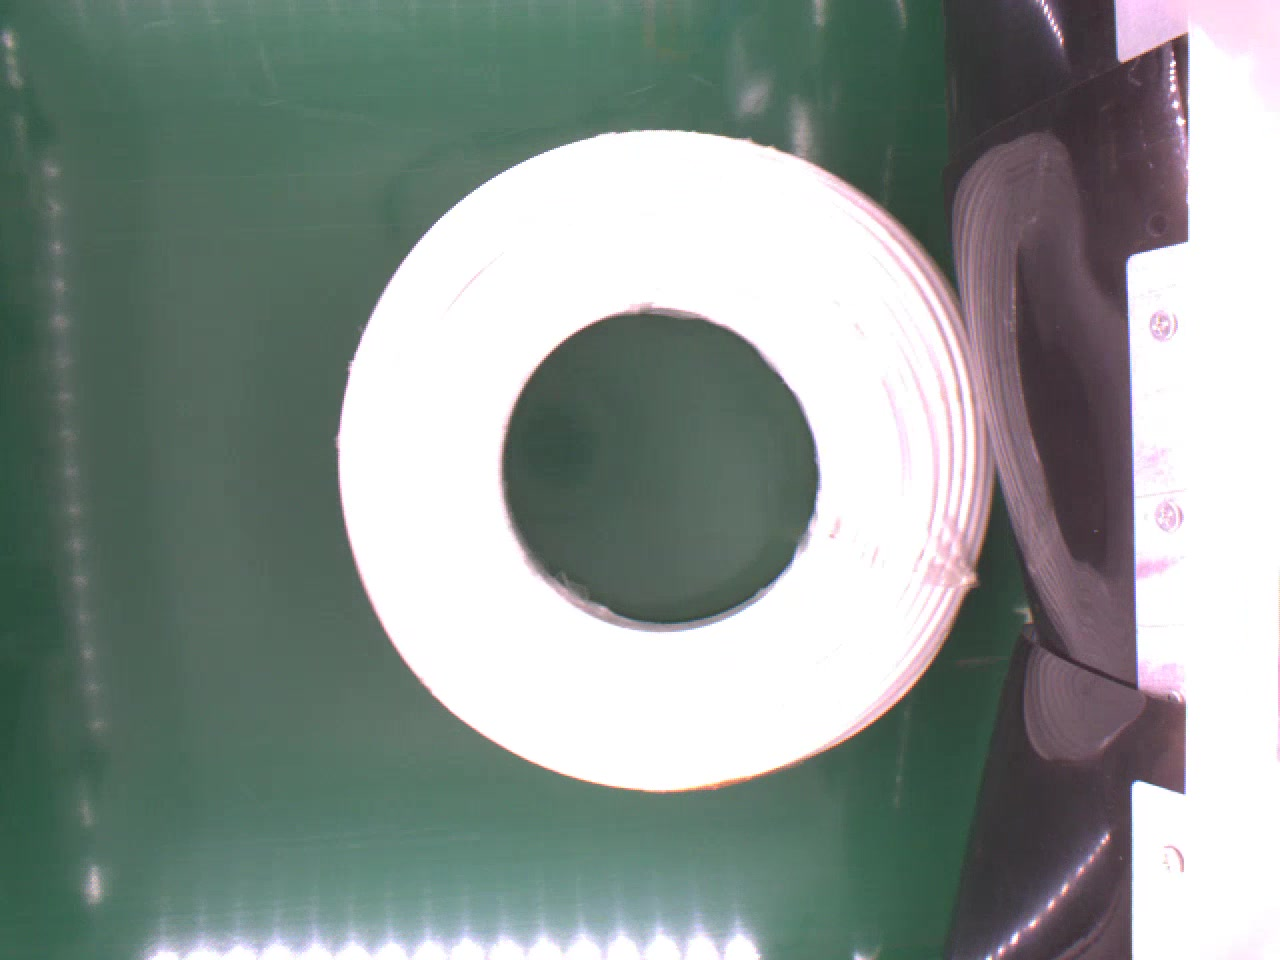white: (329, 123, 999, 795)
